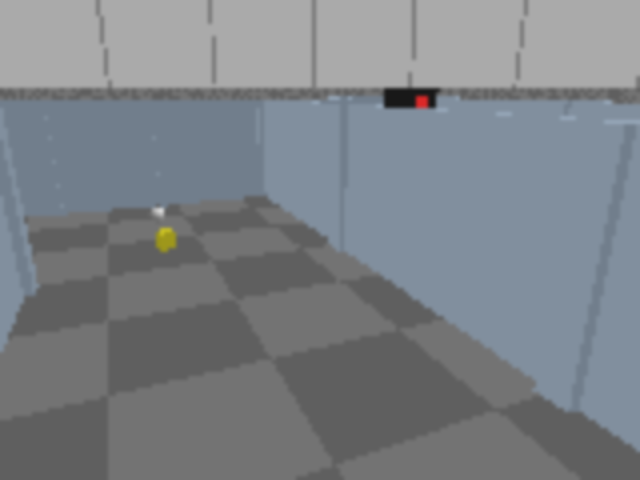puck: (154, 228, 178, 251), (146, 205, 169, 225)
